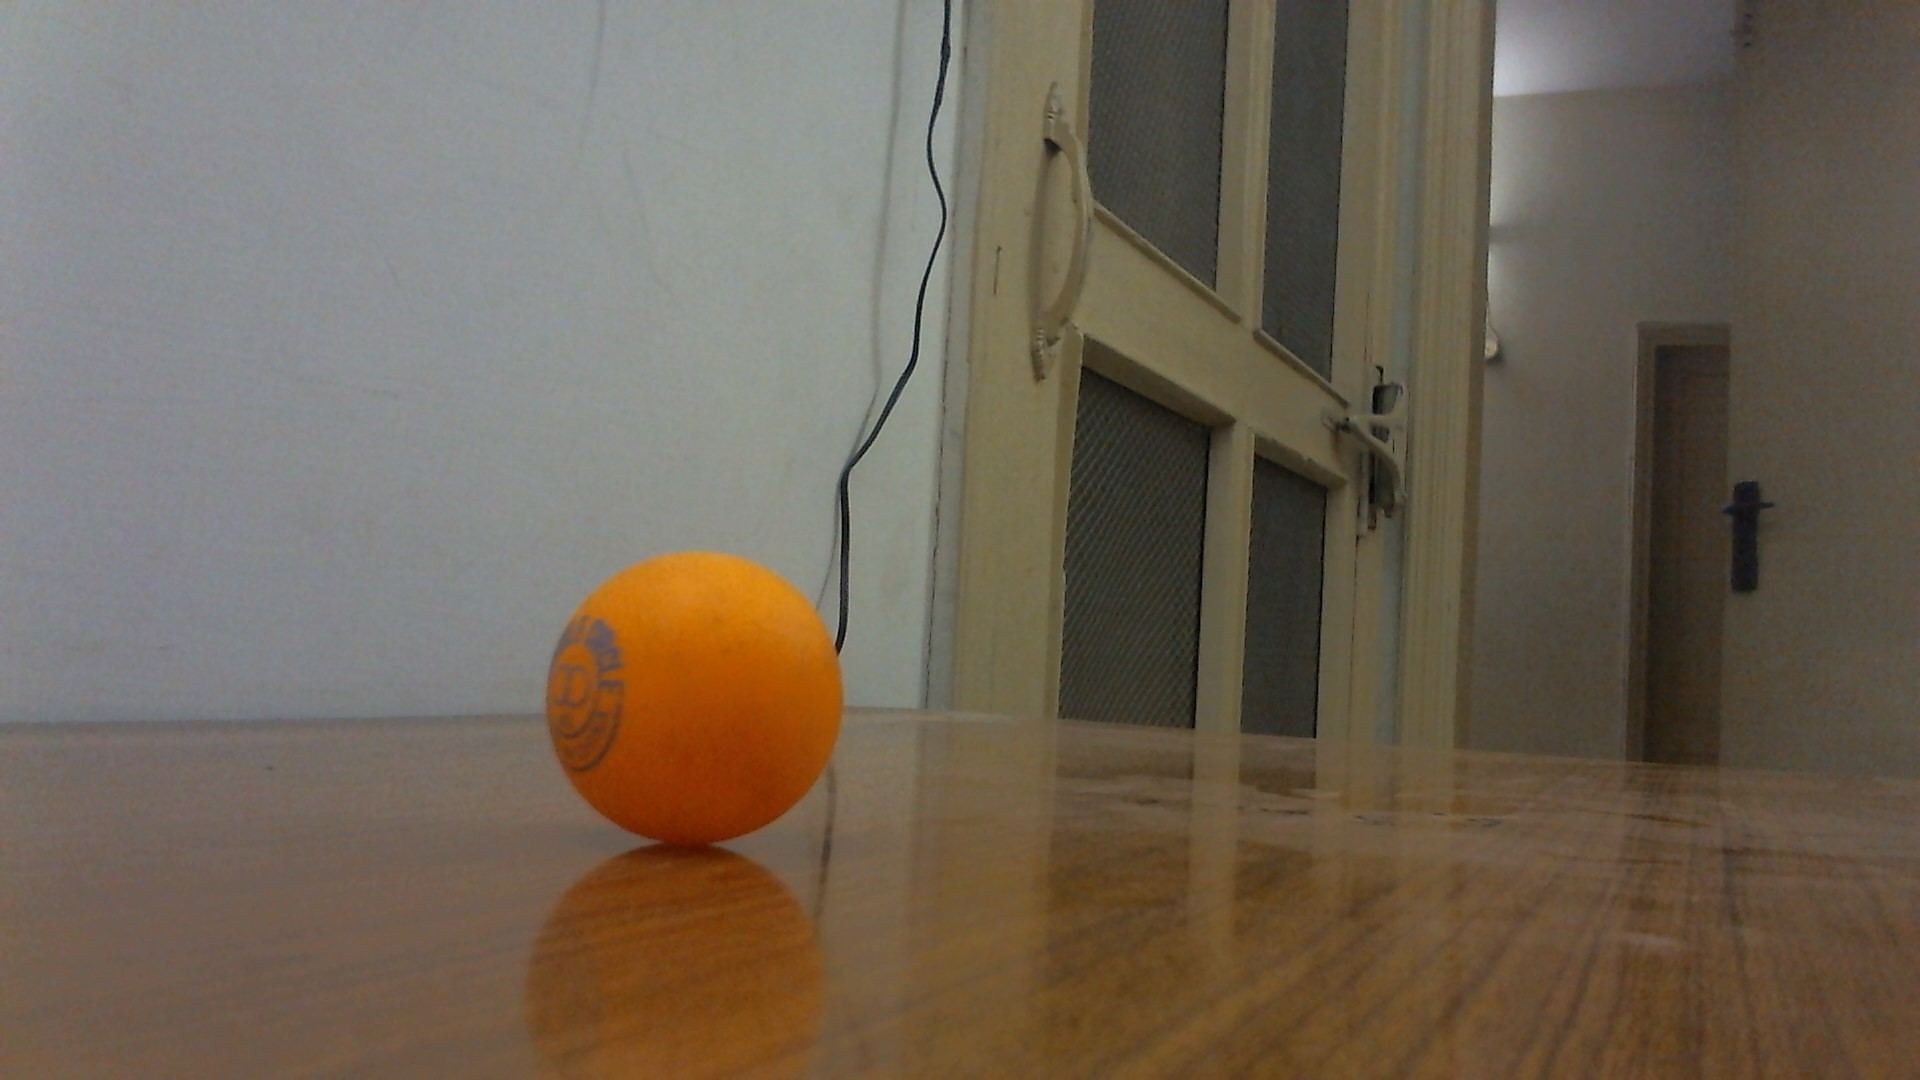ball: (549, 550, 848, 847)
